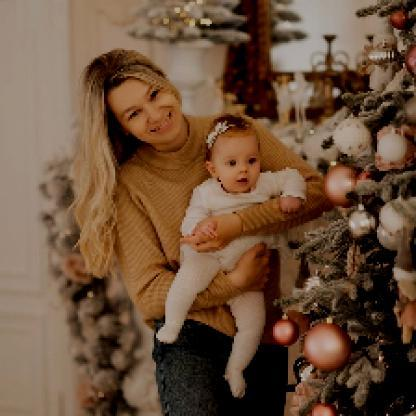child: (155, 113, 308, 401)
